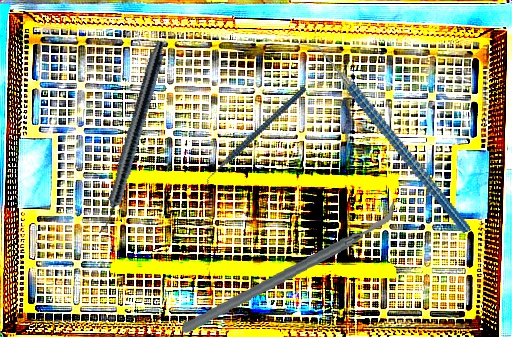Chopper: (295, 7, 472, 265), (172, 199, 408, 336), (182, 86, 328, 192)
Handpiece: (94, 38, 169, 237)
